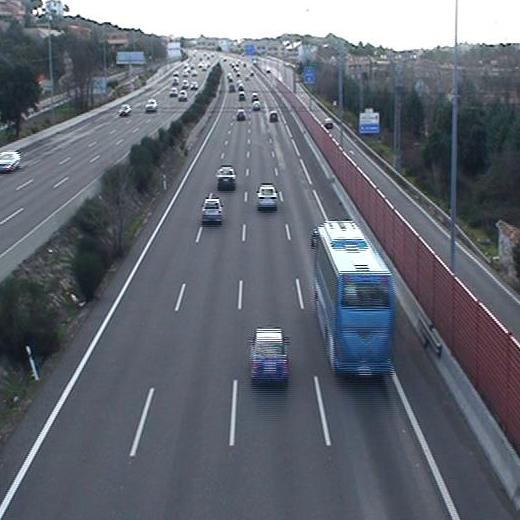bus: (310, 219, 397, 379)
car: (250, 327, 289, 379), (200, 195, 224, 221), (257, 182, 279, 209), (216, 165, 237, 187), (234, 108, 249, 123), (268, 110, 280, 124), (249, 100, 263, 111)
